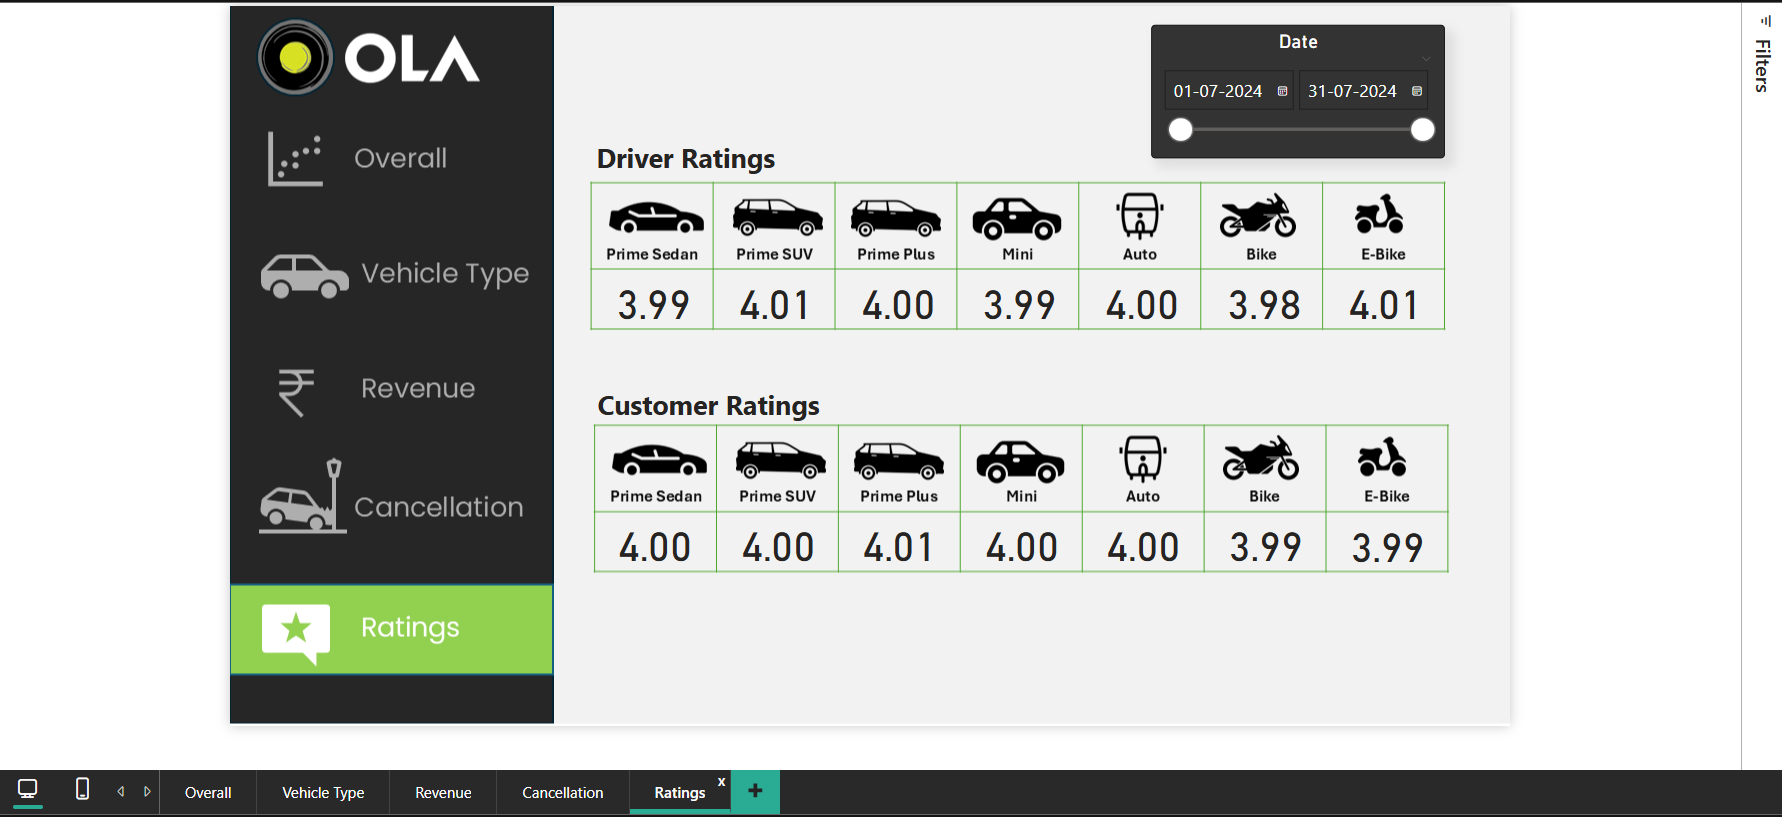

The page's visual inventory and layout, read from the dashboard file:
{"tool":"powerbi","page":{"name":"Ratings","canvas":[1280,720],"ordinal":4},"visuals":[{"type":"actionButton","box":[0,223.3,324.4,91.1],"z":0},{"type":"actionButton","box":[0,338.9,324.4,91.1],"z":1000},{"type":"actionButton","box":[0,448.9,324.4,91.1],"z":2000},{"type":"actionButton","box":[0,113.3,324.4,91.1],"z":3000},{"type":"card","fields":{"Values":["Avg(Booking.Driver_Ratings)"]},"box":[364.3,260.7,110.7,63.1],"z":4000},{"type":"card","fields":{"Values":["Avg(Booking.Driver_Ratings)"]},"box":[488.1,260.7,110.7,63.1],"z":5000},{"type":"card","fields":{"Values":["Avg(Booking.Driver_Ratings)"]},"box":[614.3,260.7,110.7,63.1],"z":6000},{"type":"card","fields":{"Values":["Avg(Booking.Driver_Ratings)"]},"box":[735.7,260.7,110.7,63.1],"z":7000},{"type":"card","fields":{"Values":["Avg(Booking.Driver_Ratings)"]},"box":[846.4,260.7,110.7,63.1],"z":8000},{"type":"card","fields":{"Values":["Avg(Booking.Driver_Ratings)"]},"box":[971.4,260.7,110.7,63.1],"z":9000},{"type":"card","fields":{"Values":["Avg(Booking.Driver_Ratings)"]},"box":[1098.8,260.7,110.7,63.1],"z":10000},{"type":"card","fields":{"Values":["Avg(Booking.Customer_Rating)"]},"box":[365.5,508.3,110.7,63.1],"z":11000},{"type":"card","fields":{"Values":["Avg(Booking.Customer_Rating)"]},"box":[488.1,508.3,110.7,63.1],"z":12000},{"type":"card","fields":{"Values":["Avg(Booking.Customer_Rating)"]},"box":[614.3,508.3,110.7,63.1],"z":13000},{"type":"card","fields":{"Values":["Avg(Booking.Customer_Rating)"]},"box":[735.7,508.3,110.7,63.1],"z":14000},{"type":"card","fields":{"Values":["Avg(Booking.Customer_Rating)"]},"box":[860.7,508.3,110.7,63.1],"z":15000},{"type":"card","fields":{"Values":["Avg(Booking.Customer_Rating)"]},"box":[971.4,508.3,110.7,63.1],"z":16000},{"type":"card","fields":{"Values":["Avg(Booking.Customer_Rating)"]},"box":[1098.4,506.6,109.8,63.9],"z":17000}]}

Visuals, with their boxes on the page's 1280x720 design canvas (x1, y1, x2, y2). These are canvas units, not pixel positions in the 1782x817 screenshot, which may show the page scaled, cropped or inside an application window:
actionButton: bbox=[0, 223, 324, 314]
actionButton: bbox=[0, 339, 324, 430]
actionButton: bbox=[0, 449, 324, 540]
actionButton: bbox=[0, 113, 324, 204]
card - Avg(Booking.Driver_Ratings): bbox=[364, 261, 475, 324]
card - Avg(Booking.Driver_Ratings): bbox=[488, 261, 599, 324]
card - Avg(Booking.Driver_Ratings): bbox=[614, 261, 725, 324]
card - Avg(Booking.Driver_Ratings): bbox=[736, 261, 846, 324]
card - Avg(Booking.Driver_Ratings): bbox=[846, 261, 957, 324]
card - Avg(Booking.Driver_Ratings): bbox=[971, 261, 1082, 324]
card - Avg(Booking.Driver_Ratings): bbox=[1099, 261, 1210, 324]
card - Avg(Booking.Customer_Rating): bbox=[366, 508, 476, 571]
card - Avg(Booking.Customer_Rating): bbox=[488, 508, 599, 571]
card - Avg(Booking.Customer_Rating): bbox=[614, 508, 725, 571]
card - Avg(Booking.Customer_Rating): bbox=[736, 508, 846, 571]
card - Avg(Booking.Customer_Rating): bbox=[861, 508, 971, 571]
card - Avg(Booking.Customer_Rating): bbox=[971, 508, 1082, 571]
card - Avg(Booking.Customer_Rating): bbox=[1098, 507, 1208, 570]
